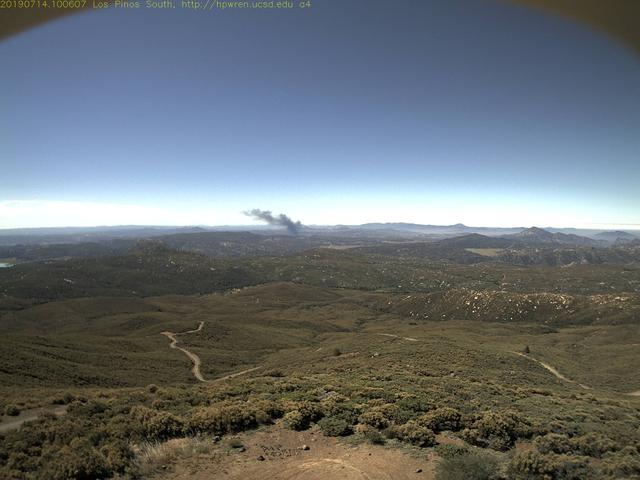smoke: (238, 200, 309, 239)
